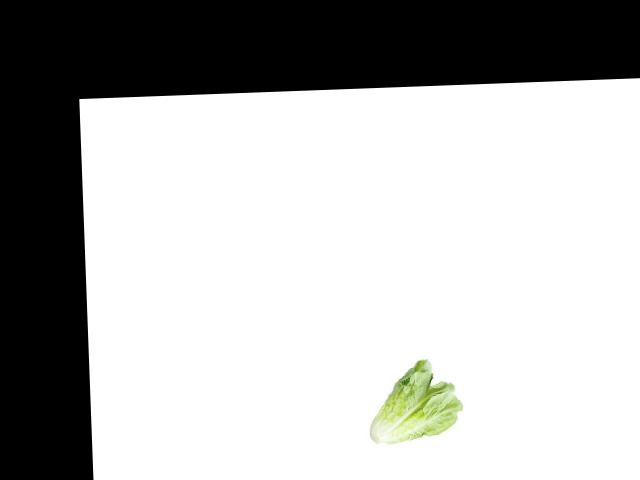lettuce: (361, 354, 464, 452)
